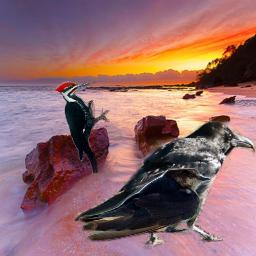Crow: (72, 119, 256, 252)
Swallow: (79, 168, 210, 242)
Woodpecker: (55, 80, 110, 173)
